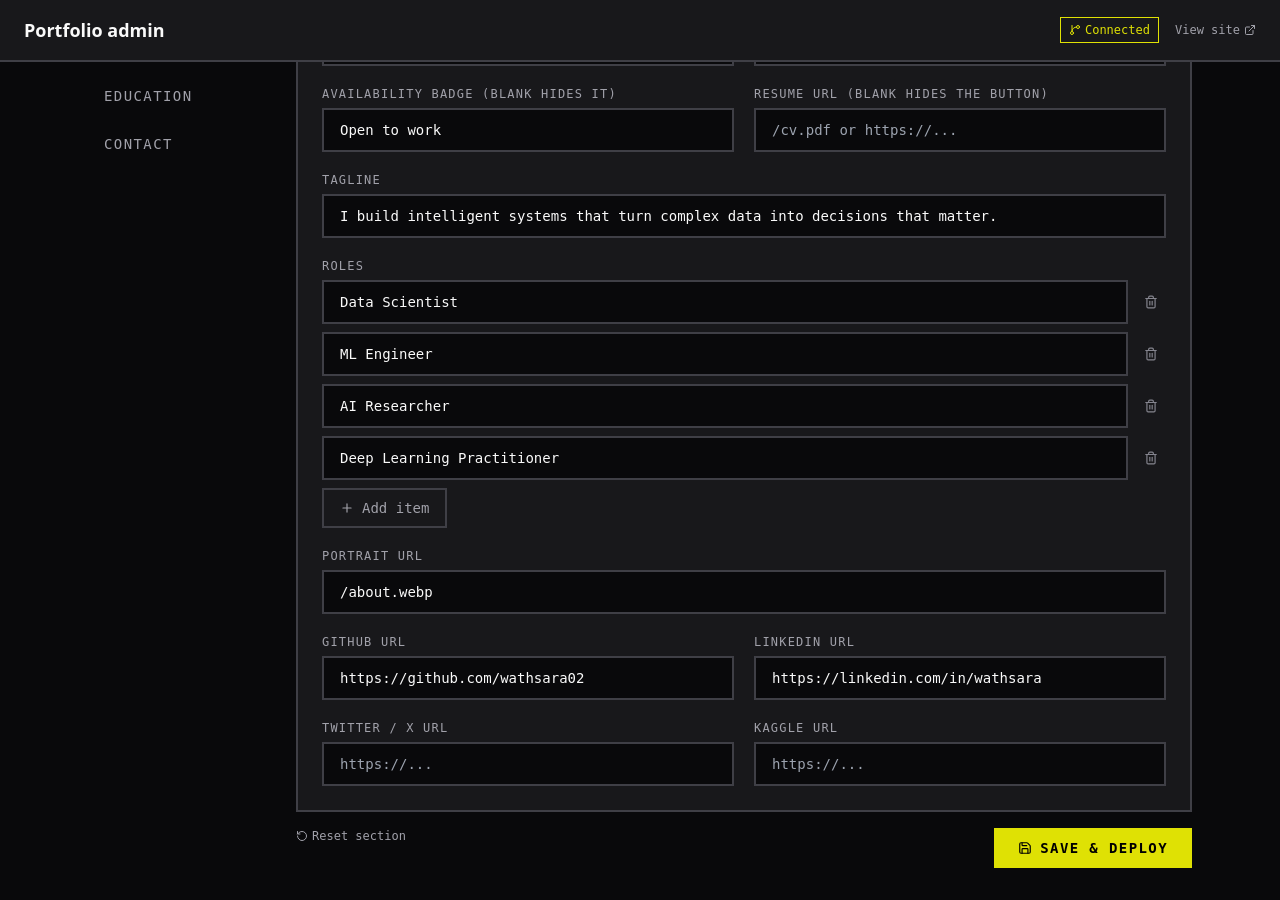
Test: Admin › commits the data file to GitHub when a token is set
(page scrolled)
Click the button "Save & deploy". click: point(1093, 848)
box: [994,828,1192,868]
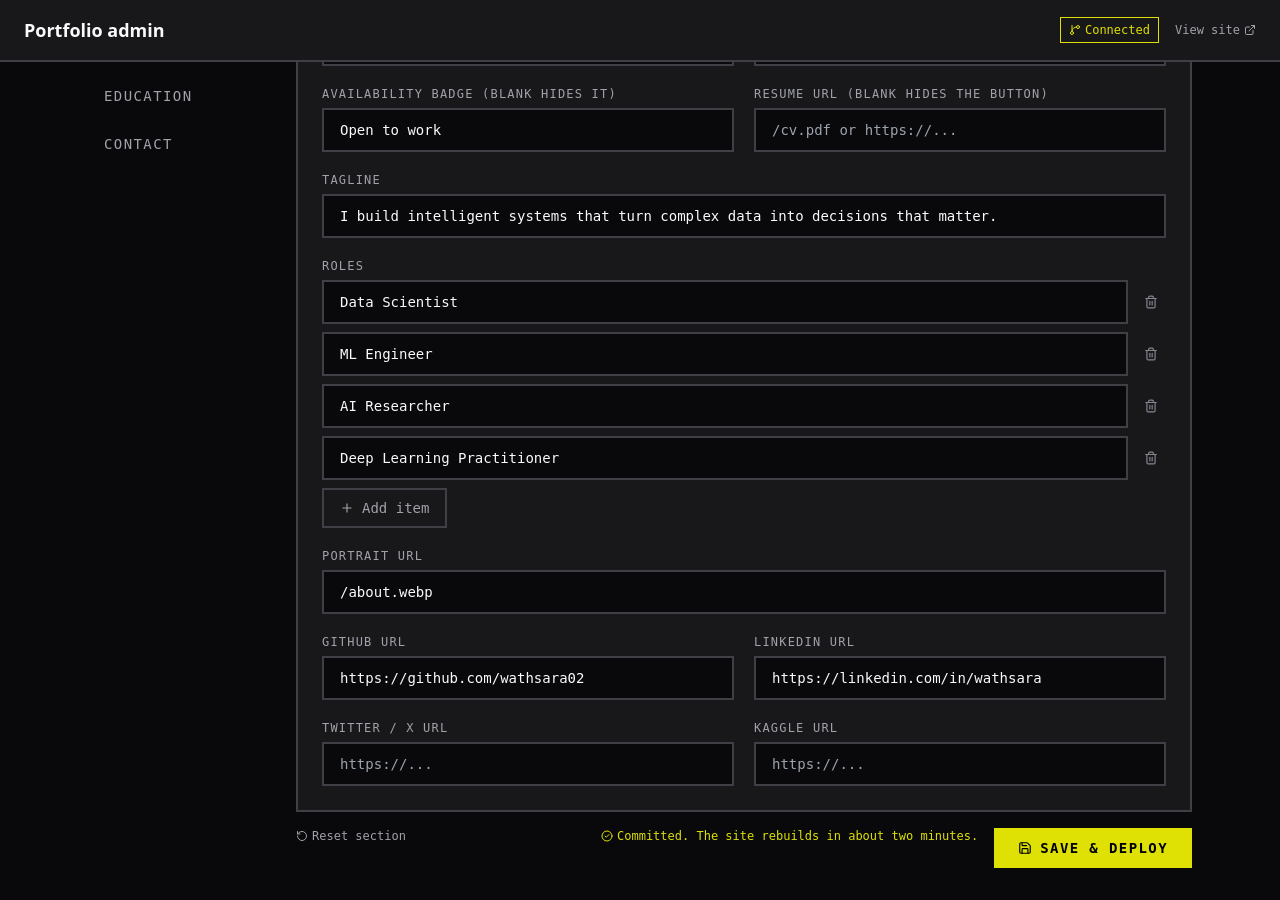
expect the text "Committed. The site rebuilds in about two minutes." is shown: met, box [601,828,978,844]
